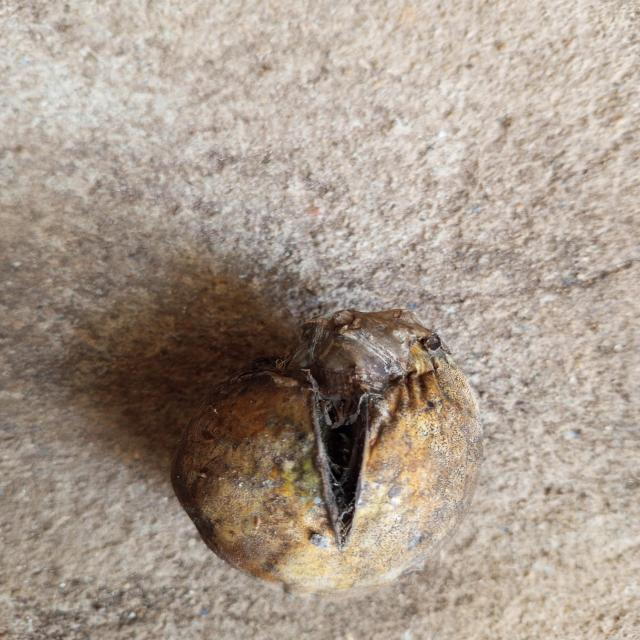damaged: (171, 309, 482, 592)
